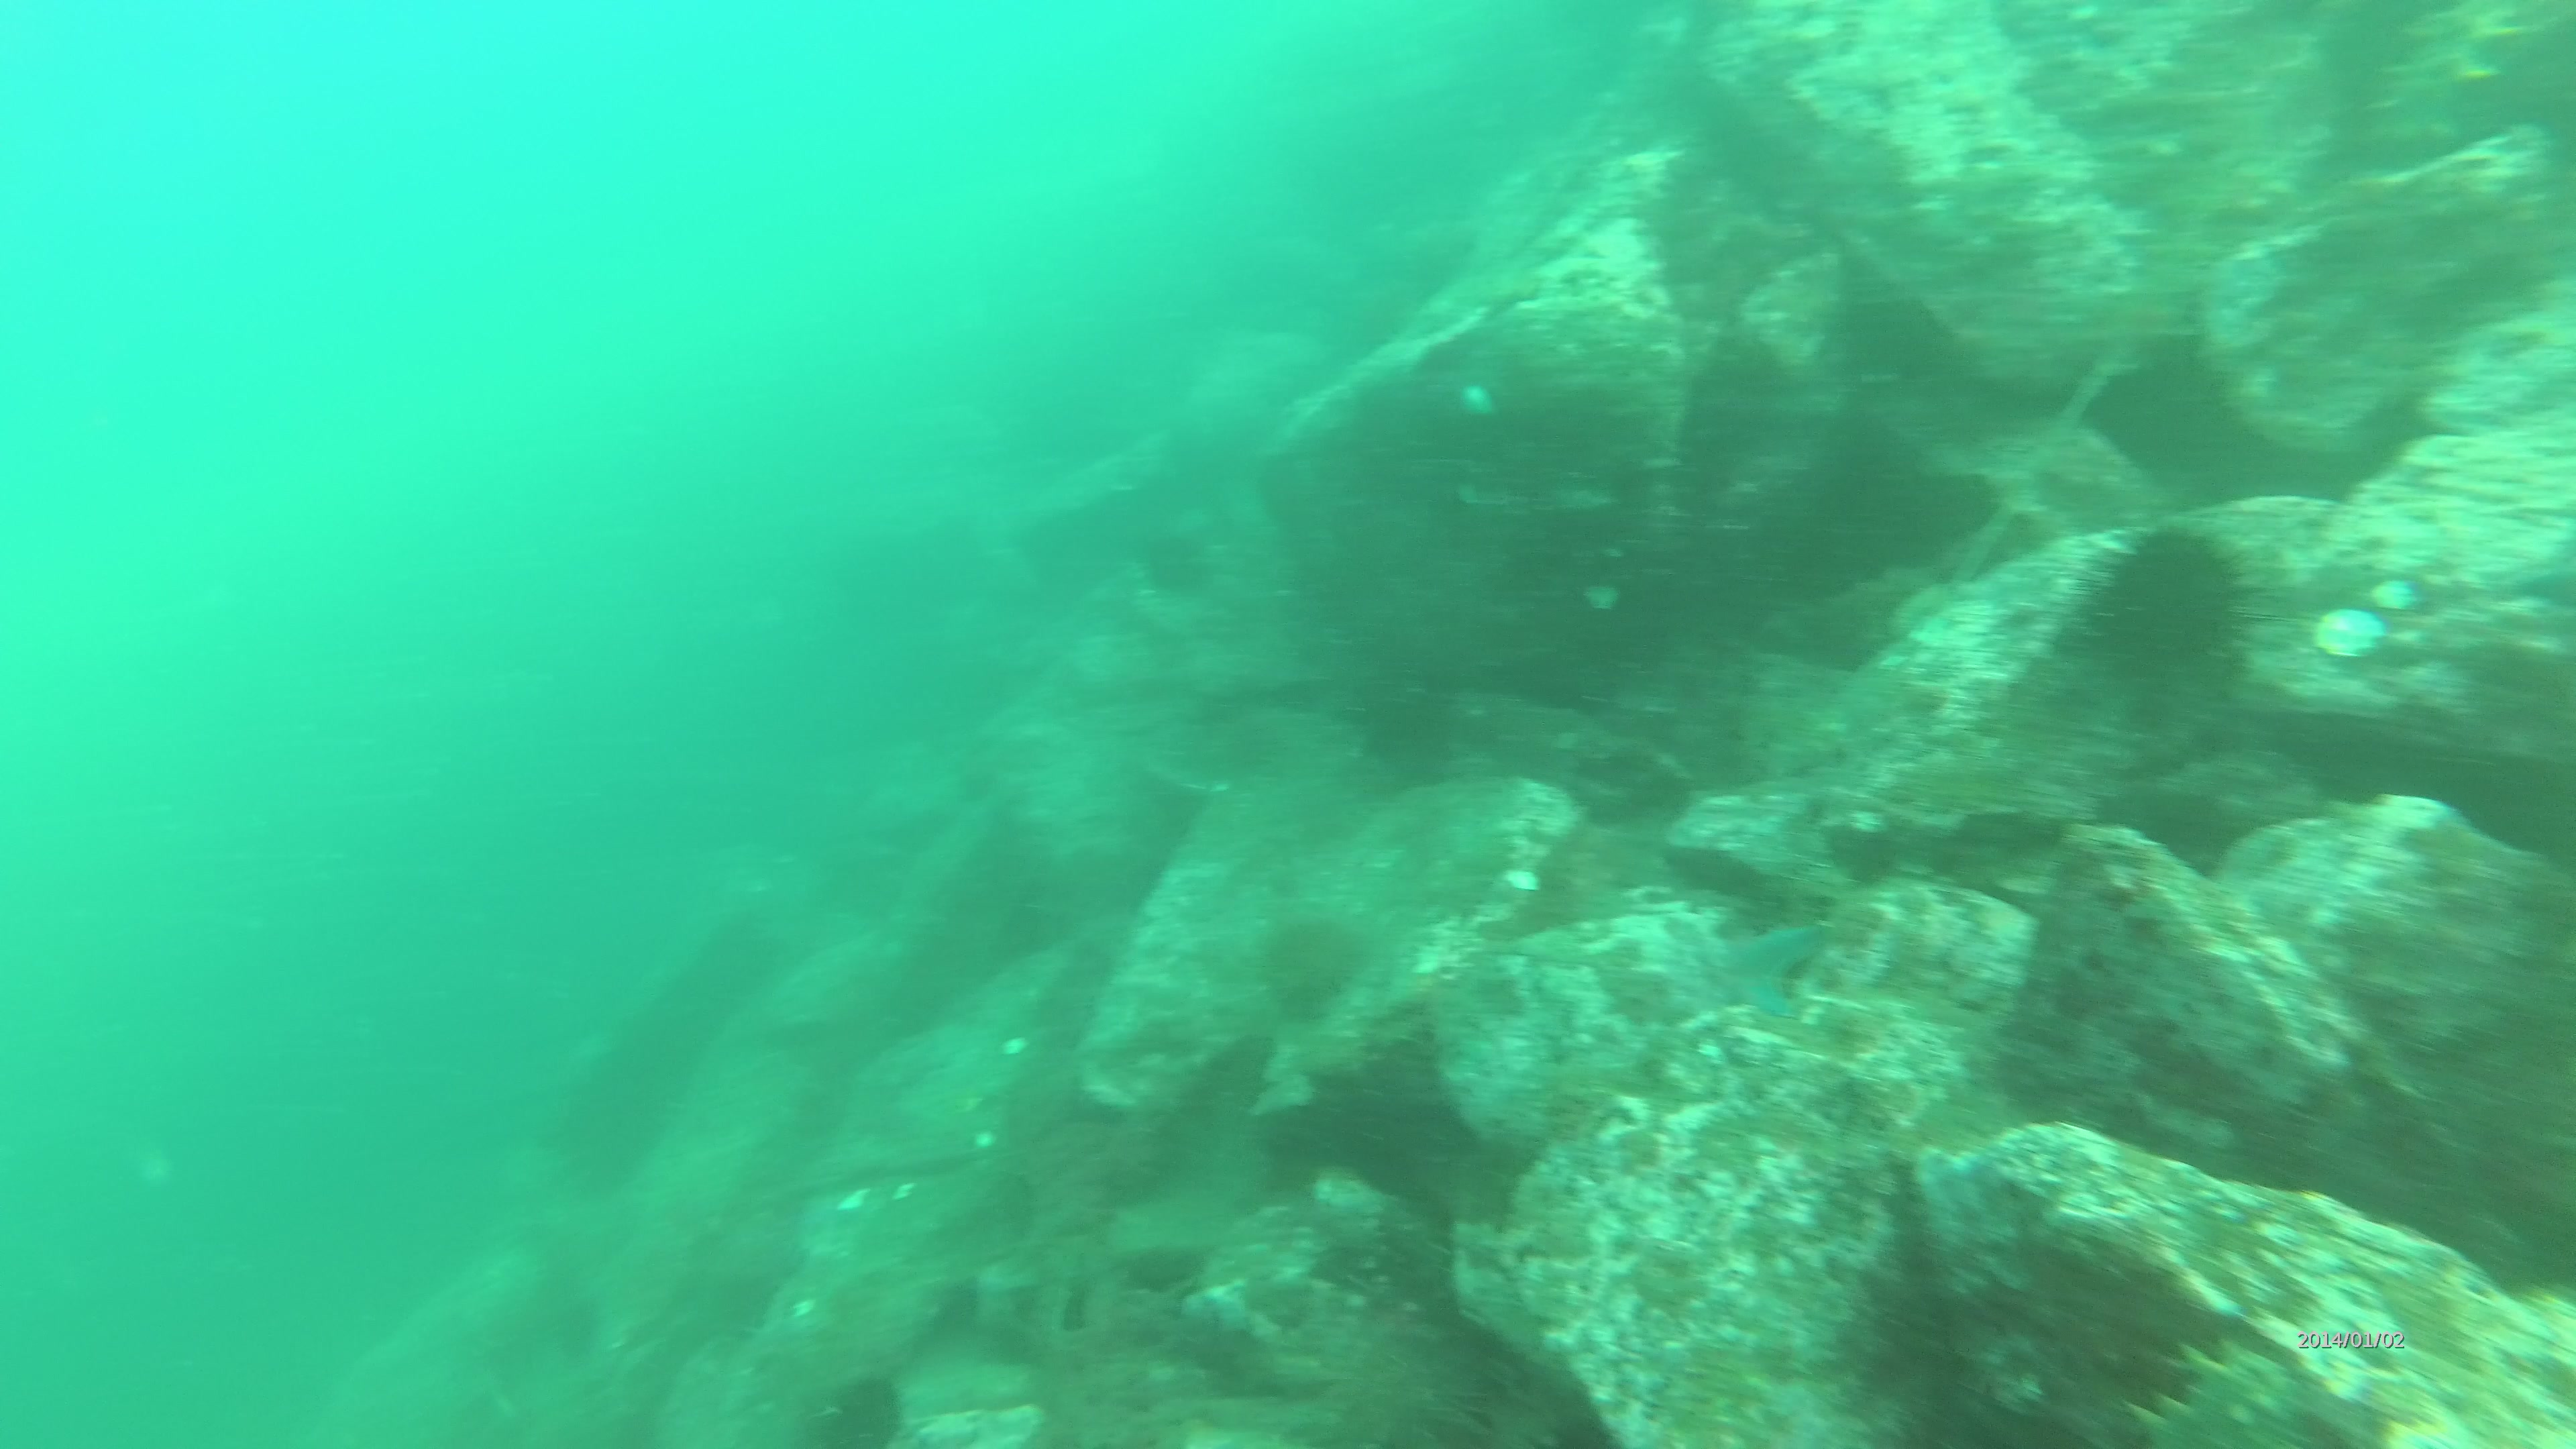echinus: (2091, 527, 2268, 679), (1272, 911, 1355, 1012), (1134, 527, 1221, 605), (810, 1384, 901, 1445)
holothurian: (2123, 1338, 2296, 1449)
